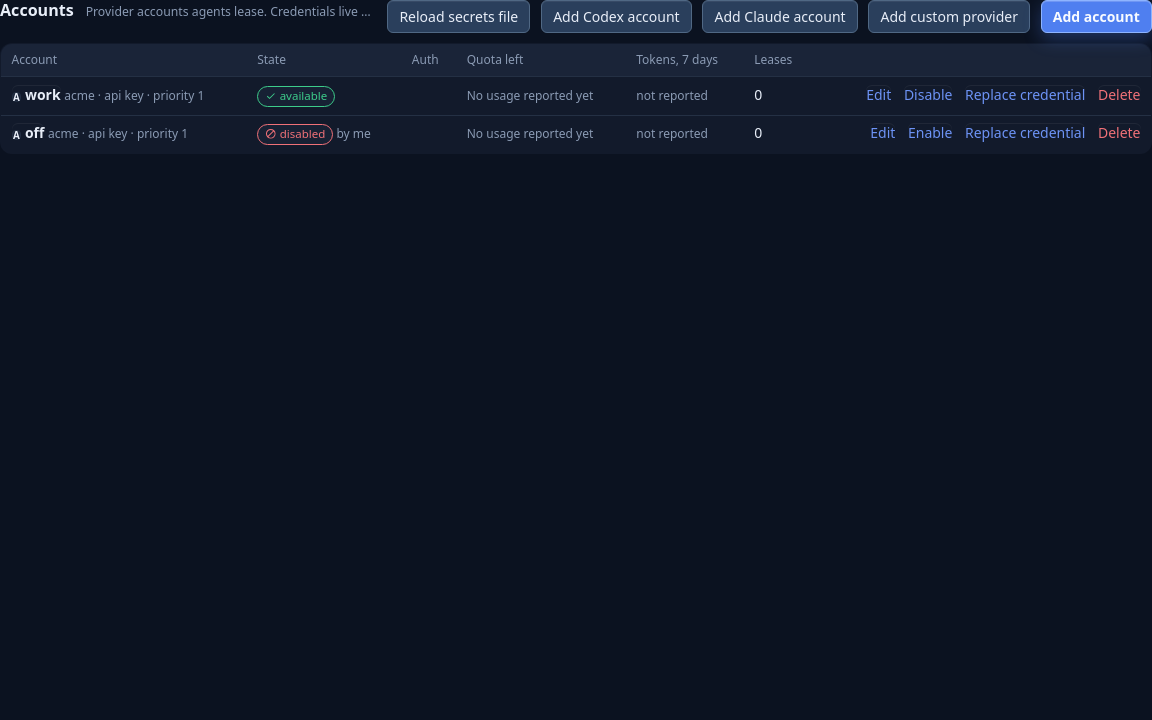
Scenario: account row actions › rejects an invalid lease limit client-side
The image size is (1152, 720).
Step 1. Click the button with aria-label "Edit work" → (879, 95), box [866,85,891,105]
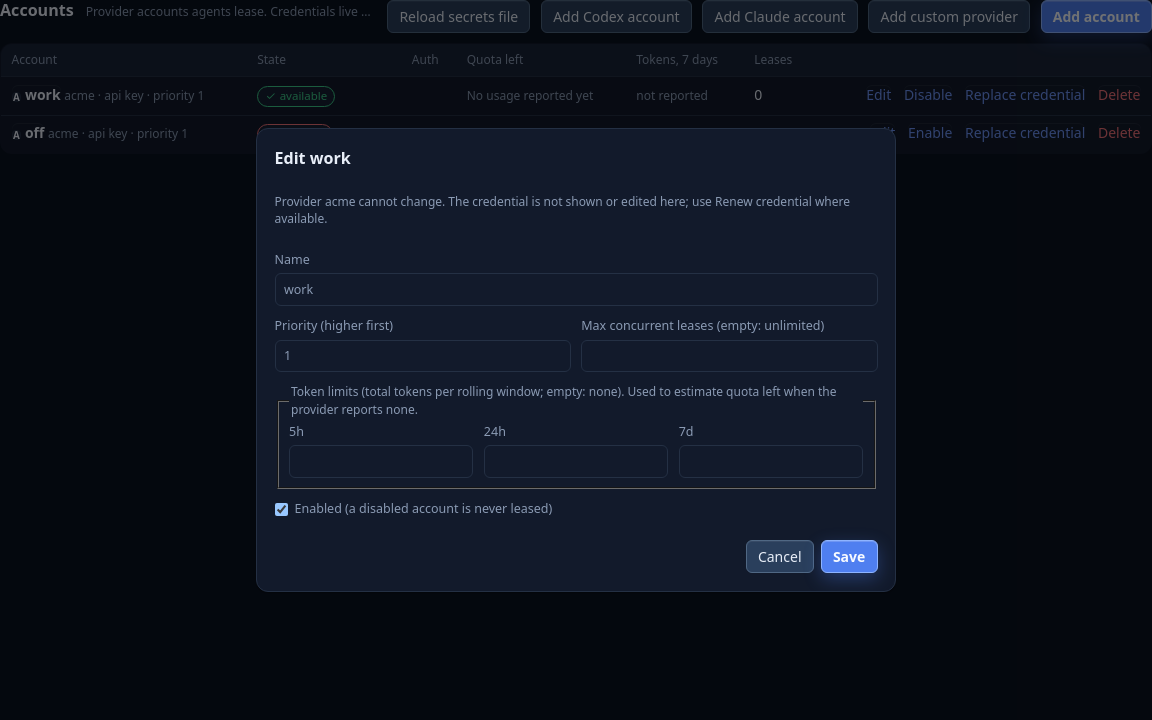
Step 2. Type "0" into the number field labelled "Max concurrent leases (empty: unlimited)" → (729, 356), box [581,340,878,372]
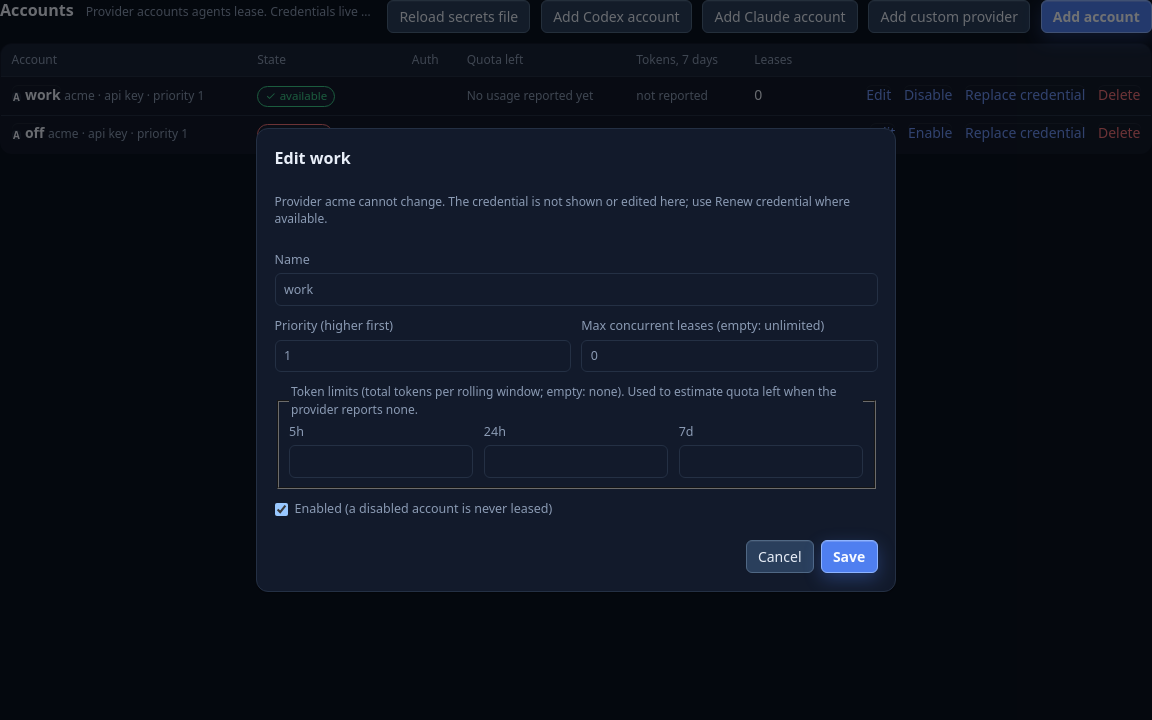
Step 3. Click the button "Save" → (849, 557), box [821,540,878,573]
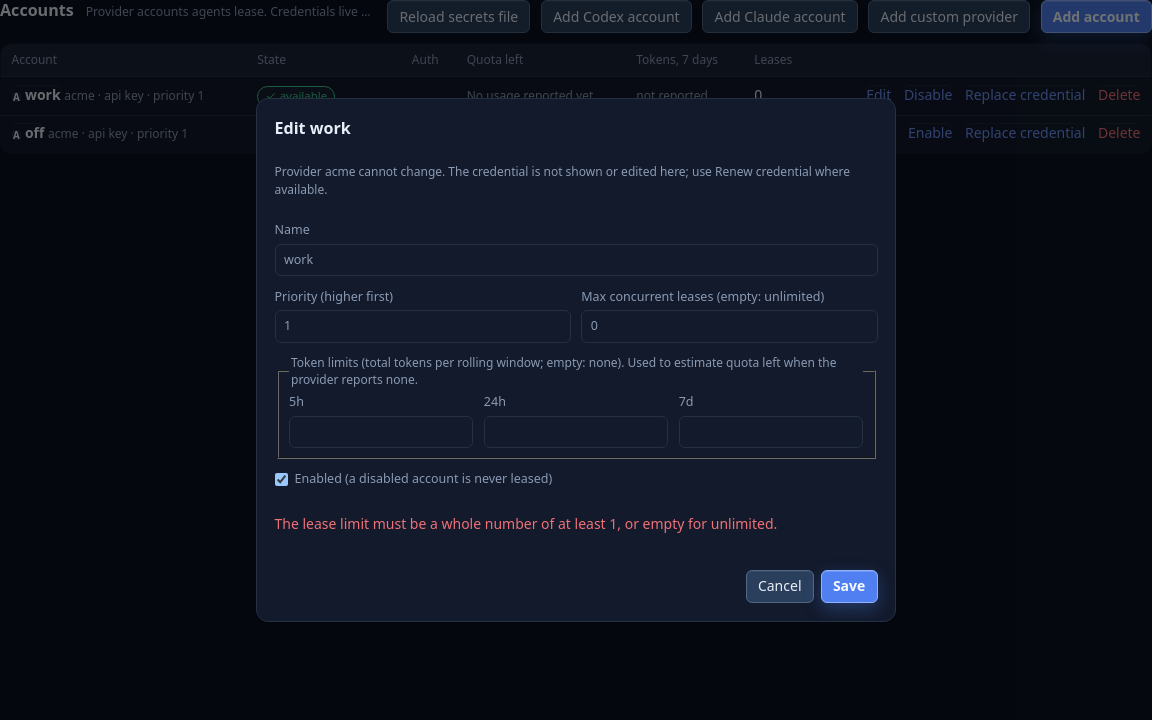
Expected: the message shows "at least 1", [274,514,777,533]
